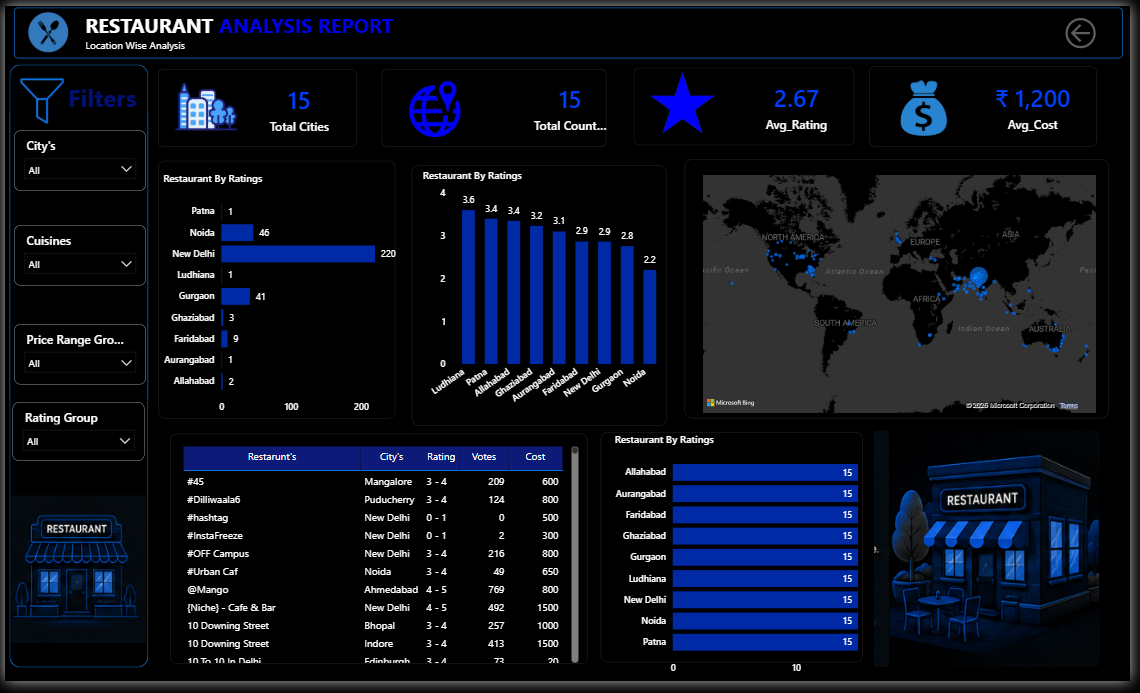

The page's visual inventory and layout, read from the dashboard file:
{"tool":"powerbi","page":{"name":"Location-Wise-Restaurant Analysis","canvas":[1500,900],"ordinal":2},"visuals":[{"type":"shape","box":[11,1.8,1478.4,67.9],"z":0},{"type":"textbox","box":[102.7,2.9,449,63.1],"z":1000},{"type":"shape","box":[5.5,77,185,804],"z":2000},{"type":"shape","box":[199.9,80.7,273.3,111.9],"z":3000},{"type":"shape","box":[498.9,80.7,308.2,111.9],"z":4000},{"type":"shape","box":[834.6,77,302.7,111.9],"z":5000},{"type":"shape","box":[1148.3,75.2,311.8,115.6],"z":6000},{"type":"shape","box":[199.9,201.8,324.7,352.2],"z":7000},{"type":"shape","box":[537.4,207.3,348.5,355.8],"z":8000},{"type":"shape","box":[902.5,199.9,574.1,354],"z":9000},{"type":"shape","box":[216.4,566.8,565,315.5],"z":11000},{"type":"shape","box":[790.6,565,357.7,315.5],"z":12000},{"type":"card","fields":{"Values":["Measures_Table.Total Cities"]},"box":[326.5,93.5,132.1,82.5],"z":13000},{"type":"card","fields":{"Values":["Measures_Table.Total Countries"]},"box":[697.1,93.8,110.5,81.8],"z":14000},{"type":"card","fields":{"Values":["Measures_Table.Avg_Rating"]},"box":[999.7,91.7,110.1,82.5],"z":15000},{"type":"card","fields":{"Values":["Measures_Table.Avg_Cost"]},"box":[1304.2,91.7,132.1,82.5],"z":16000},{"type":"columnChart","title":"Restaurant By Ratings","fields":{"Category":["Fact_Resturant.City's"],"Y":["Measures_Table.Avg_Rating"]},"box":[552.1,216.4,333.8,332],"z":18000},{"type":"tableEx","fields":{"Values":["Fact_Resturant.Restarunt Name","Fact_Resturant.City's","Fact_Resturant.Rating Group","Sum(Fact_Resturant.Votes)","Sum(Fact_Resturant.Average Cost for two)"]},"box":[231.1,581.5,537.4,299],"z":22000},{"type":"image","box":[1137,565,352,315],"z":24000},{"type":"image","box":[7.3,638.3,179.8,225.6],"z":25000},{"type":"slicer","fields":{"Values":["Fact_Resturant.City's"]},"box":[11,166.9,176.1,80.7],"z":26000},{"type":"slicer","fields":{"Values":["Fact_Resturant.Cuisines"]},"box":[11,291.7,176.1,80.7],"z":27000},{"type":"slicer","fields":{"Values":["Fact_Resturant.Price Range Group"]},"box":[11,423.7,176.1,80.7],"z":28000},{"type":"slicer","fields":{"Values":["Fact_Resturant.Rating Group"]},"box":[9.2,528.3,176.1,78.9],"z":29000},{"type":"textbox","box":[73.4,93.5,106.4,53.2],"z":30000},{"type":"image","box":[0,93.5,99.1,66],"z":31000},{"type":"image","box":[18.3,1.8,78.9,66],"z":32000},{"type":"image","box":[210.9,89.9,115.6,88],"z":33000},{"type":"image","box":[525.2,99.4,94,74.5],"z":34000},{"type":"image","box":[851.1,86.2,102.7,86.2],"z":35000},{"type":"image","box":[1172.1,95.4,106.4,80.7],"z":36000},{"type":"barChart","title":"Restaurant By Ratings","fields":{"Category":["Fact_Resturant.City's"],"Y":["Measures_Table.Total_Restaurant"]},"box":[206,219.2,334.4,332.2],"z":36001},{"type":"map","fields":{"Category":["Fact_Resturant.City's"],"Y":["Avg(Fact_Resturant.Latitude)"],"X":["Avg(Fact_Resturant.Longitude)"],"Size":["CountNonNull(Fact_Resturant.Price Range Group)"]},"box":[926.3,220.1,533.8,328.3],"z":36002},{"type":"barChart","title":"Restaurant By Ratings","fields":{"Category":["Fact_Resturant.City's"],"Y":["Count(Dim_Location.Address's)"]},"box":[807.1,568.6,359.5,332],"z":36003},{"type":"actionButton","box":[1407.2,9.8,53.9,52.3],"z":36004}]}

Visuals, with their boxes in screenshot pixels (x1, y1, x2, y2), scaled from the page's 1500x900 canvas onto the 1140x693 screenshot:
shape: x1=8, y1=1, x2=1132, y2=54
textbox: x1=78, y1=2, x2=419, y2=51
shape: x1=4, y1=59, x2=145, y2=678
shape: x1=152, y1=62, x2=360, y2=148
shape: x1=379, y1=62, x2=613, y2=148
shape: x1=634, y1=59, x2=864, y2=145
shape: x1=873, y1=58, x2=1110, y2=147
shape: x1=152, y1=155, x2=399, y2=427
shape: x1=408, y1=160, x2=673, y2=434
shape: x1=686, y1=154, x2=1122, y2=427
shape: x1=164, y1=436, x2=594, y2=679
shape: x1=601, y1=435, x2=873, y2=678
card - Measures_Table.Total Cities: x1=248, y1=72, x2=349, y2=136
card - Measures_Table.Total Countries: x1=530, y1=72, x2=614, y2=135
card - Measures_Table.Avg_Rating: x1=760, y1=71, x2=843, y2=134
card - Measures_Table.Avg_Cost: x1=991, y1=71, x2=1092, y2=134
"Restaurant By Ratings" columnChart: x1=420, y1=167, x2=673, y2=422
tableEx - Fact_Resturant.Restarunt Name x Fact_Resturant.City's: x1=176, y1=448, x2=584, y2=678
image: x1=864, y1=435, x2=1132, y2=678
image: x1=6, y1=491, x2=142, y2=665
slicer - Fact_Resturant.City's: x1=8, y1=129, x2=142, y2=191
slicer - Fact_Resturant.Cuisines: x1=8, y1=225, x2=142, y2=287
slicer - Fact_Resturant.Price Range Group: x1=8, y1=326, x2=142, y2=388
slicer - Fact_Resturant.Rating Group: x1=7, y1=407, x2=141, y2=468
textbox: x1=56, y1=72, x2=137, y2=113
image: x1=0, y1=72, x2=75, y2=123
image: x1=14, y1=1, x2=74, y2=52
image: x1=160, y1=69, x2=248, y2=137
image: x1=399, y1=77, x2=471, y2=134
image: x1=647, y1=66, x2=725, y2=133
image: x1=891, y1=73, x2=972, y2=136
"Restaurant By Ratings" barChart: x1=157, y1=169, x2=411, y2=425
map - Fact_Resturant.City's x Avg(Fact_Resturant.Latitude): x1=704, y1=169, x2=1110, y2=422
"Restaurant By Ratings" barChart: x1=613, y1=438, x2=887, y2=692
actionButton: x1=1069, y1=8, x2=1110, y2=48
